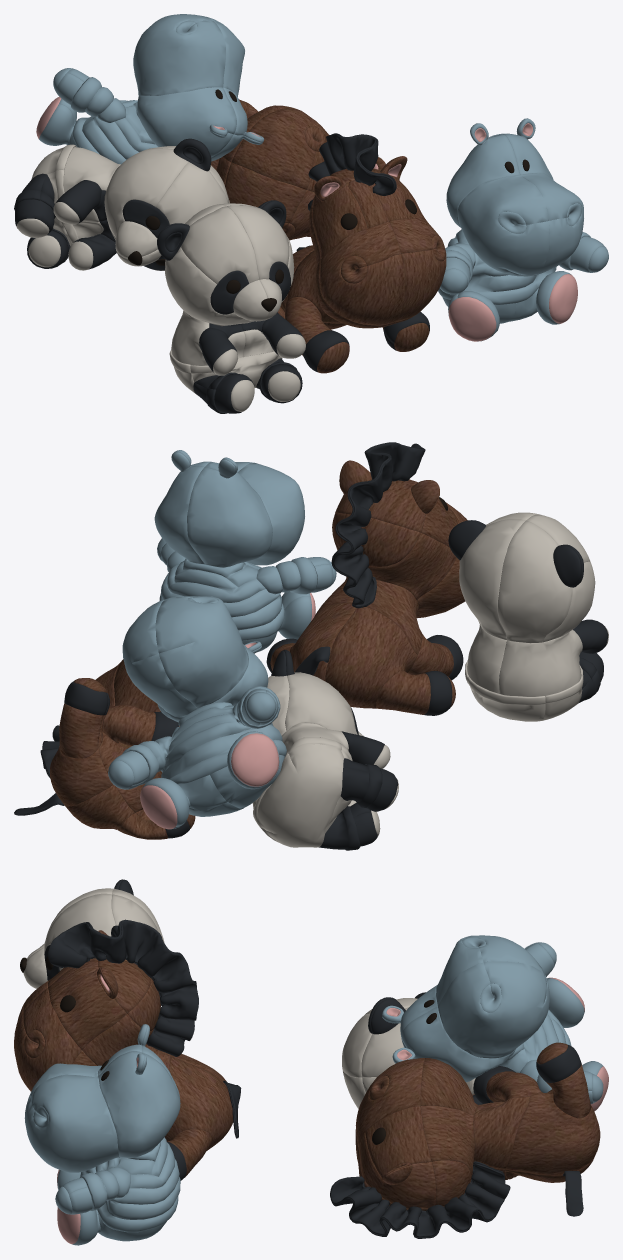
Rendered from soft-toys-2.mobile.glb.
The picture shows the model from 3 angles, top to bottom: view 1: azimuth 30°, elevation 25°; view 2: azimuth 150°, elevation 25°; view 3: azimuth 270°, elevation 25°; orthographic projection. The views are drawn at different scales.
Visible parts, largest first — view 1: Soft toys collection; view 2: Soft toys collection; view 3: Soft toys collection.
Boxes of the visible parts, box(x1,y1,x2,y2) form: Soft toys collection: box(14, 14, 608, 413); Soft toys collection: box(14, 442, 608, 850); Soft toys collection: box(14, 879, 608, 1245).
Bounding box in the file's own units: 2.66 × 1.31 × 3.1.
Materials: 6 (1 with a texture image).
